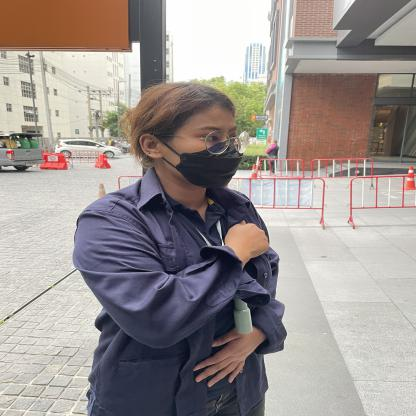Sadness: (127, 210, 307, 312)
